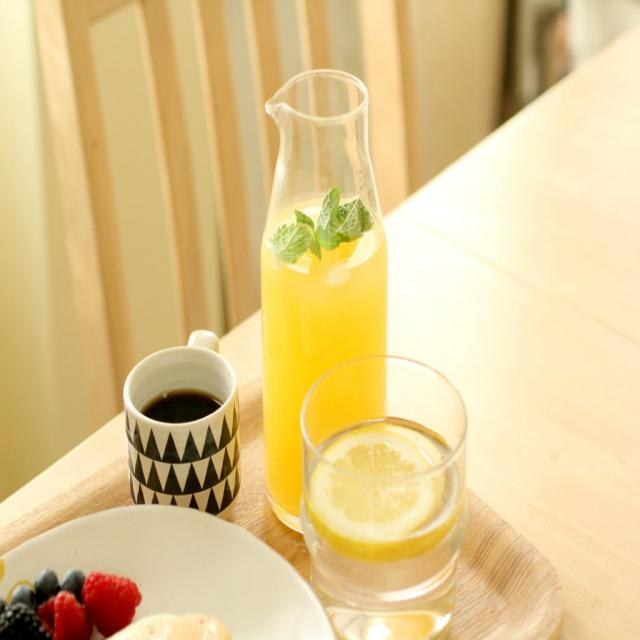Coffee: (125, 345, 247, 535)
Tea: (141, 384, 223, 423)
